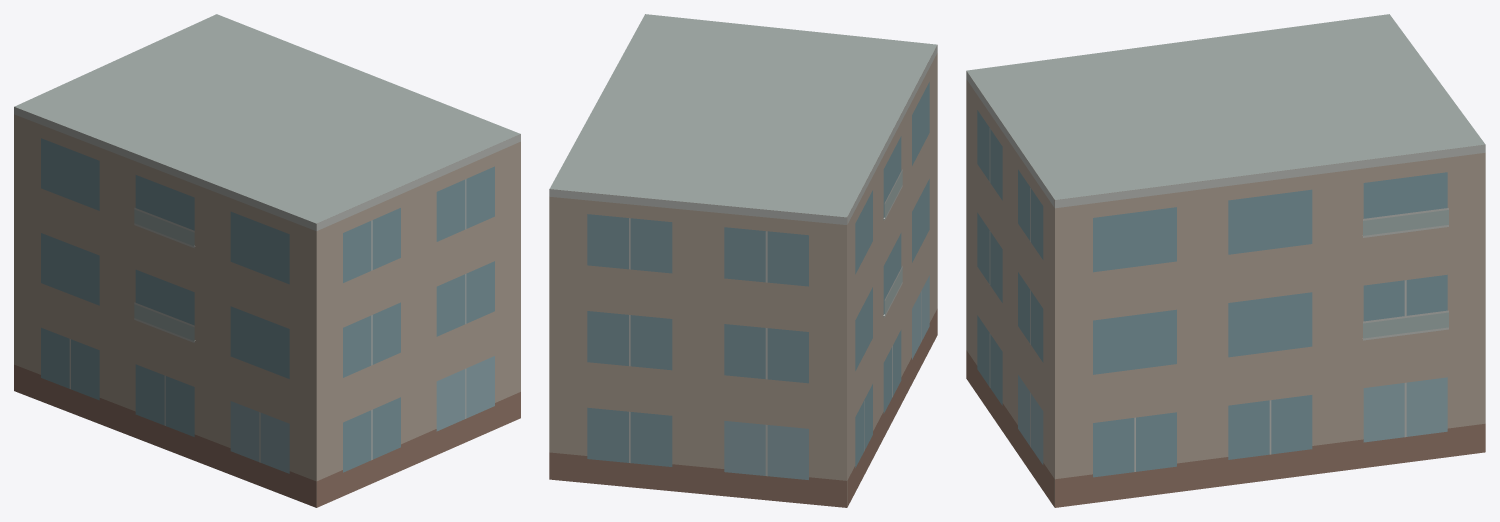
The model's file is survey-upis-32621909.glb.
The picture shows the model from 3 angles, left to right: view 1: azimuth 30°, elevation 25°; view 2: azimuth 150°, elevation 25°; view 3: azimuth 270°, elevation 25°; orthographic projection. The views are drawn at different scales.
Visible parts, largest first — view 1: survey-upis-32621909.tmp; view 2: survey-upis-32621909.tmp; view 3: survey-upis-32621909.tmp.
Part boxes in pixels (x1=…): survey-upis-32621909.tmp: x1=14, y1=14, x2=520, y2=507; survey-upis-32621909.tmp: x1=549, y1=14, x2=937, y2=507; survey-upis-32621909.tmp: x1=966, y1=14, x2=1485, y2=507.
Bounding box in the file's own units: 11.88 × 9.15 × 14.
